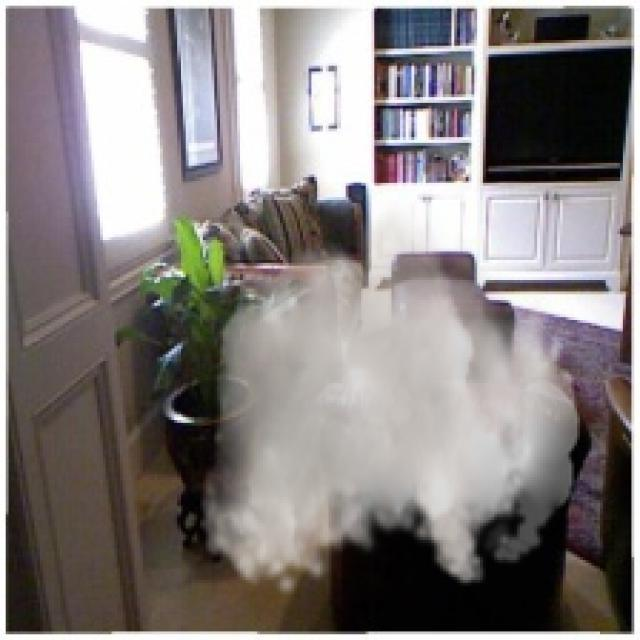smoke: (200, 192, 580, 597)
